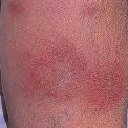Cellulitis: (32, 39, 81, 98)
